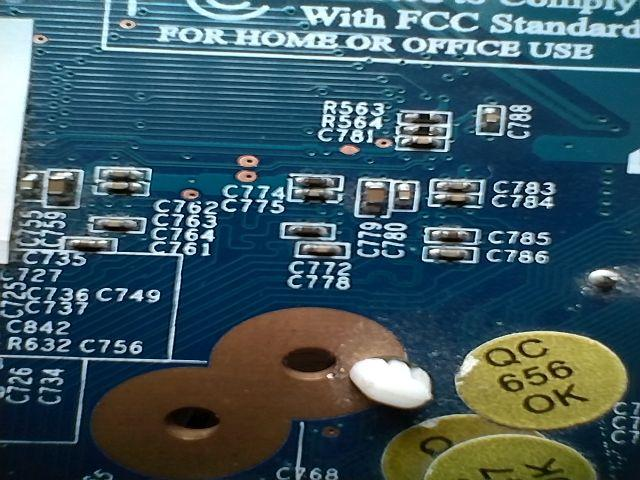capacitor: (44, 167, 83, 206), (424, 242, 476, 267), (298, 241, 348, 266), (357, 178, 388, 216), (90, 216, 145, 236), (398, 135, 452, 154), (430, 189, 484, 207), (65, 236, 116, 255), (17, 167, 43, 204), (98, 167, 151, 185), (430, 179, 485, 196), (428, 225, 477, 244), (90, 183, 154, 197), (393, 179, 419, 211), (288, 189, 338, 205), (477, 106, 502, 135)
resistor: (399, 107, 453, 121), (397, 123, 453, 136)
